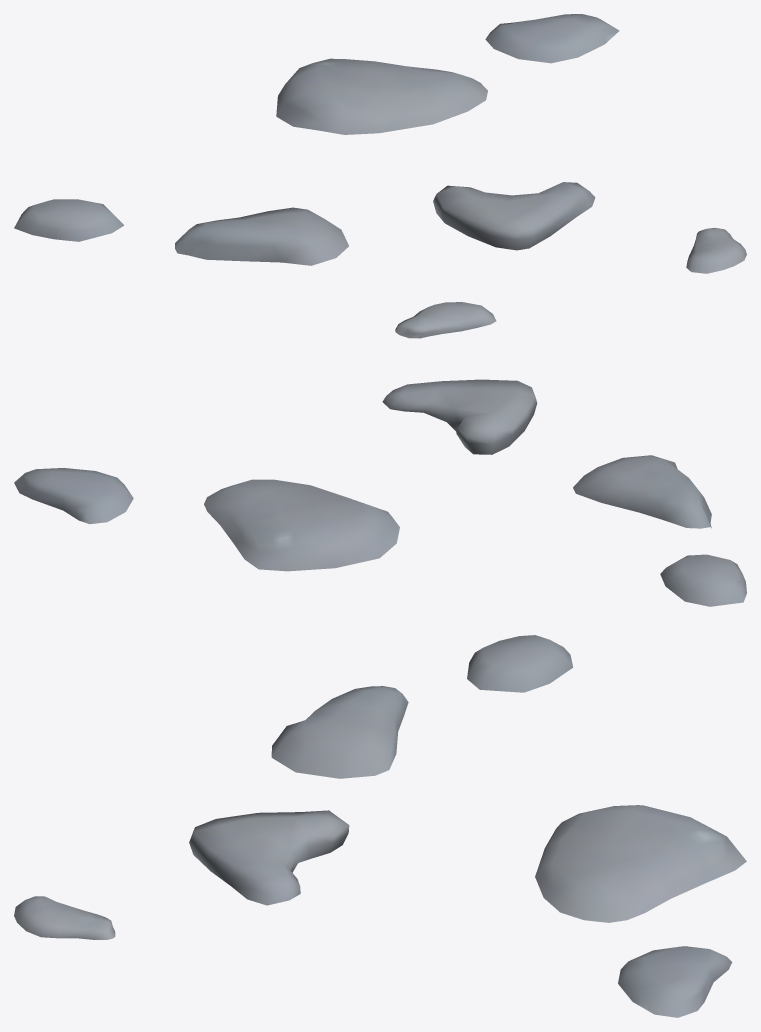
The model's file is pref_sm_beach_techsnow06_lv3.fbx.
The picture shows the model from 3 angles, top to bottom: view 1: azimuth 30°, elevation 25°; view 2: azimuth 150°, elevation 25°; view 3: azimuth 270°, elevation 25°; orthographic projection. The views are drawn at different scales.
Visible parts, largest first — view 1: sm_beach_techsnow06b_lv3; view 2: sm_beach_techsnow06b_lv3; view 3: sm_beach_techsnow06b_lv3.
Boxes of the visible parts, box(x1,y1,x2,y2) form: sm_beach_techsnow06b_lv3: box(14, 14, 746, 273); sm_beach_techsnow06b_lv3: box(14, 302, 746, 606); sm_beach_techsnow06b_lv3: box(14, 635, 746, 1017).
Size of what is drawn, in the model's own units: 9.79 by 0.4214 by 8.08.
